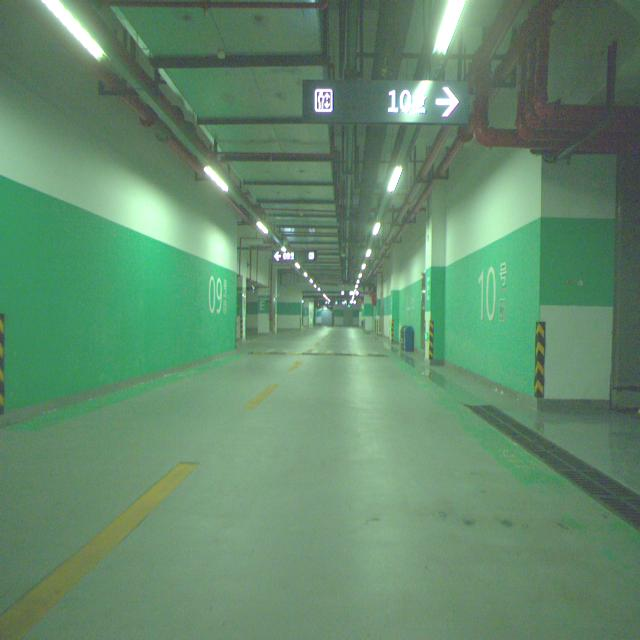wall: (424, 188, 446, 363)
